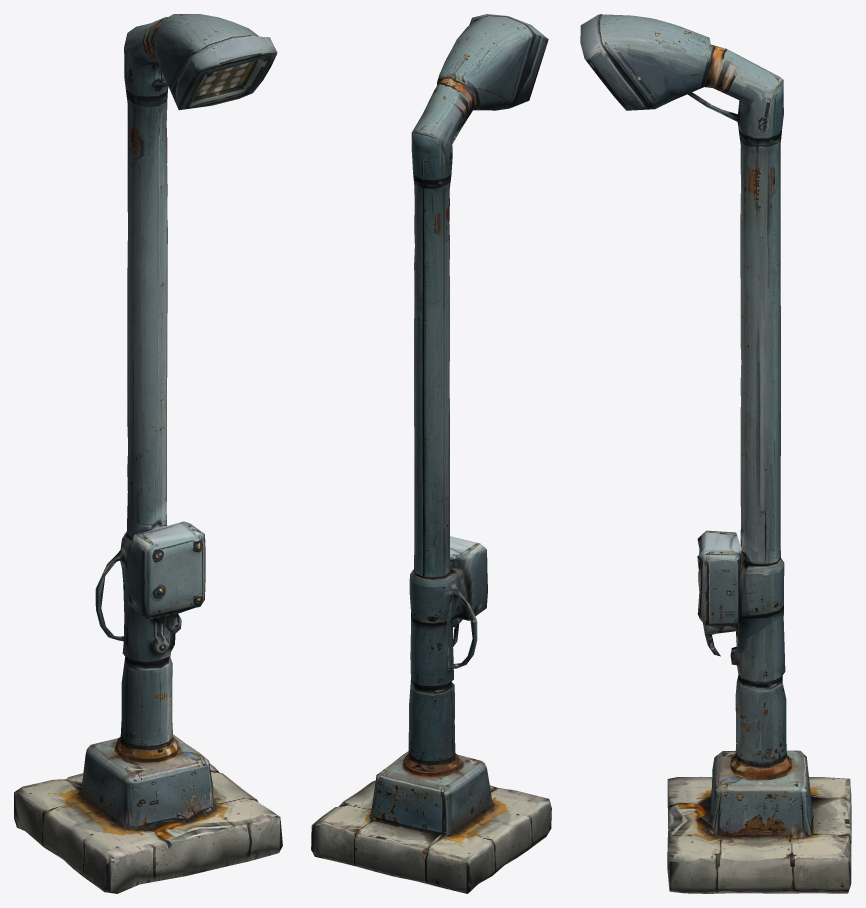
File: EX_Lab_LampPost.fbx
3 views of the same model, side by side, from view 1: azimuth 30°, elevation 25°; view 2: azimuth 150°, elevation 25°; view 3: azimuth 270°, elevation 25° (orthographic). The views are drawn at different scales.
Visible parts, largest first — view 1: texture_mapping; view 2: texture_mapping; view 3: texture_mapping.
Boxes of the visible parts, x1,y1,x2,y2 form: texture_mapping: [14, 14, 282, 893]; texture_mapping: [311, 14, 551, 893]; texture_mapping: [580, 14, 851, 893].
Size of the model in its own units: 0.2153 by 0.2957 by 1.
1 material, 1 textured.
